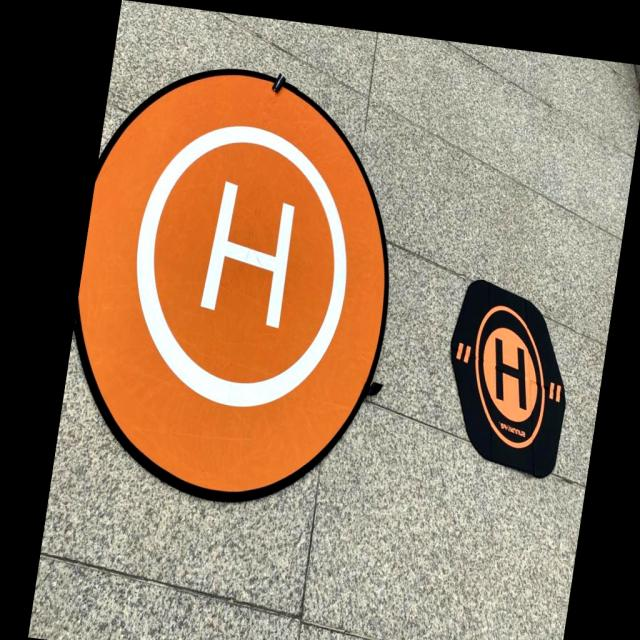helipad: (130, 119, 351, 412), (473, 300, 549, 452)
